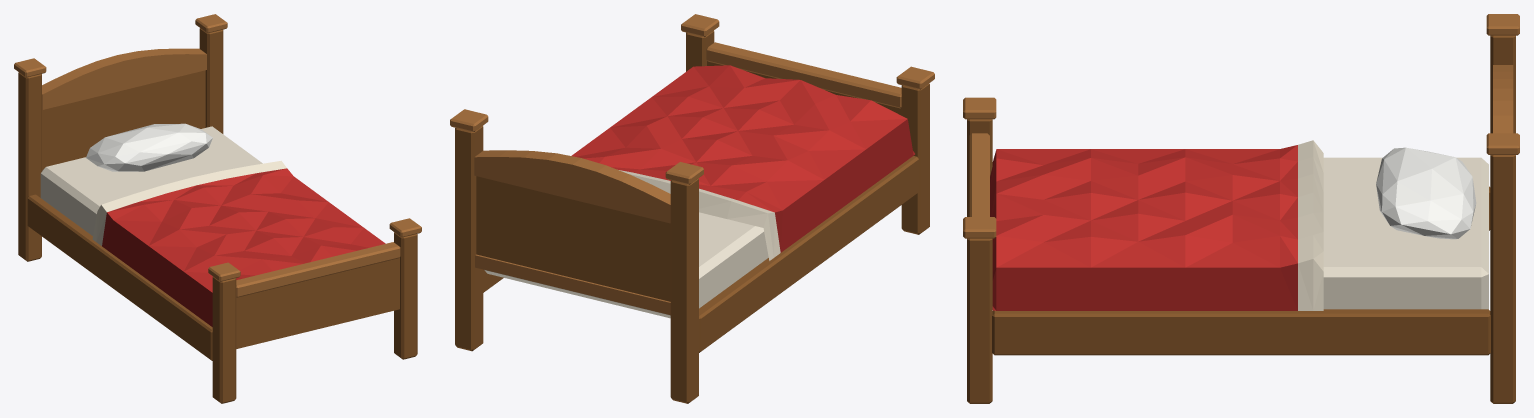
File: Prop_Bed.fbx
3 views of the same model, side by side, from view 1: azimuth 30°, elevation 25°; view 2: azimuth 150°, elevation 25°; view 3: azimuth 270°, elevation 25° (orthographic). The views are drawn at different scales.
Visible parts, largest first — view 1: Prop_Bed; view 2: Prop_Bed; view 3: Prop_Bed.
Part boxes in pixels (x1,y1,x2,y2): Prop_Bed: (14, 14, 421, 403); Prop_Bed: (450, 14, 934, 403); Prop_Bed: (963, 14, 1519, 403).
Bounding box in the file's own units: 1.23 × 1.12 × 2.17.
